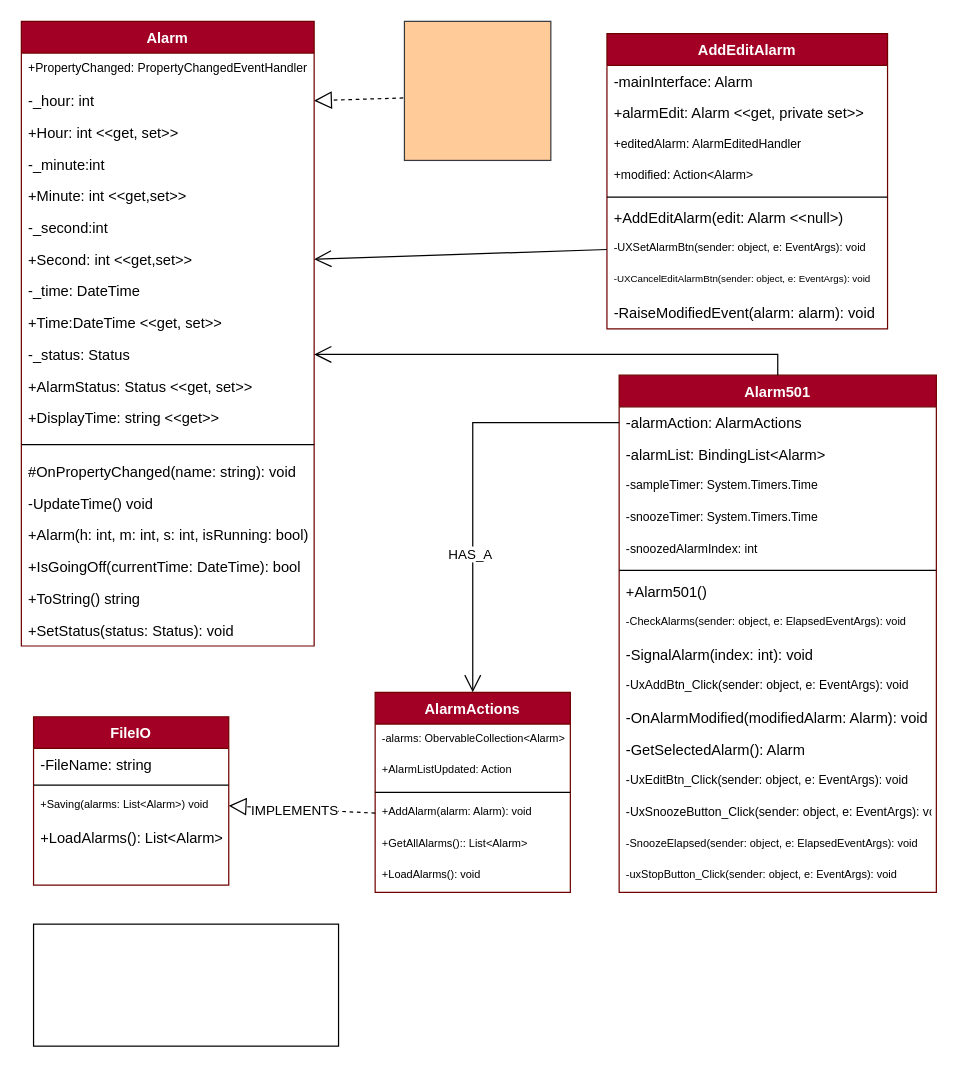
Image size: 965x1068. Some labels were removed from this diagram. The shapes that lost their labels are listed below. From the top down, each one's box as (x1, y1, x2, y2) in pixels, then its label:
(403, 20, 551, 160): <<enum>> Status Stopped Running Ringing
(32, 923, 339, 1046): Coupling ration: 9 subclasses/ 6 classes = 1.5
